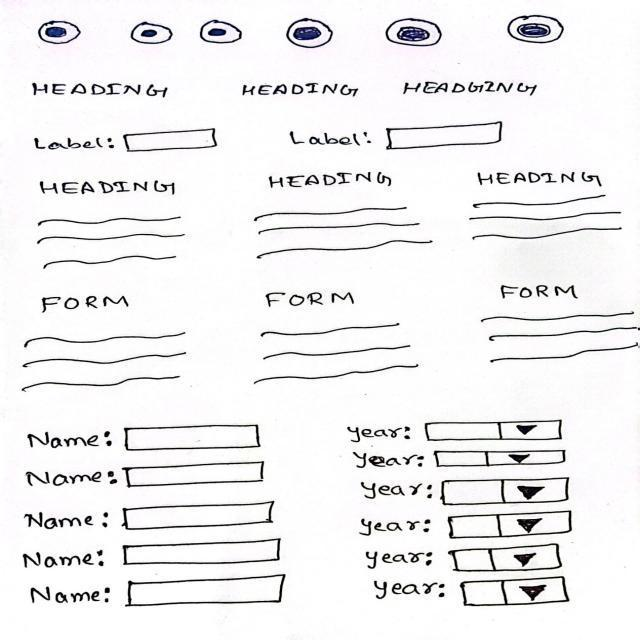radio: (501, 12, 577, 48), (380, 15, 453, 50), (279, 15, 336, 58), (33, 17, 89, 55), (125, 18, 177, 51), (196, 18, 249, 49)
textbox: (123, 575, 297, 613), (118, 419, 272, 455), (118, 502, 298, 532)
